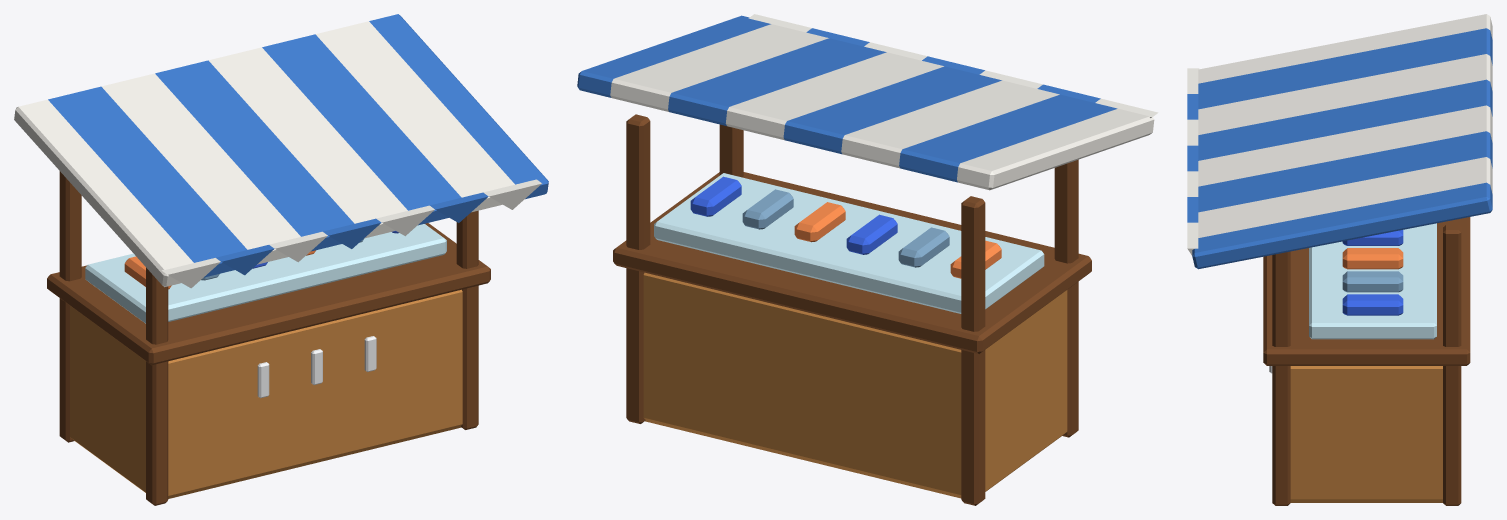
File: FishStall.fbx
The picture shows the model from 3 angles, left to right: view 1: azimuth 30°, elevation 25°; view 2: azimuth 150°, elevation 25°; view 3: azimuth 270°, elevation 25°; orthographic projection. The views are drawn at different scales.
Parts seen in each view (by area): view 1: FishStall; view 2: FishStall; view 3: FishStall.
Boxes of the visible parts, x1,y1,x2,y2 form: FishStall: [14, 14, 548, 505]; FishStall: [577, 14, 1158, 505]; FishStall: [1187, 14, 1492, 505].
Size of the model in its own units: 7.2 by 5.86 by 5.02.
1 material, 1 textured.
